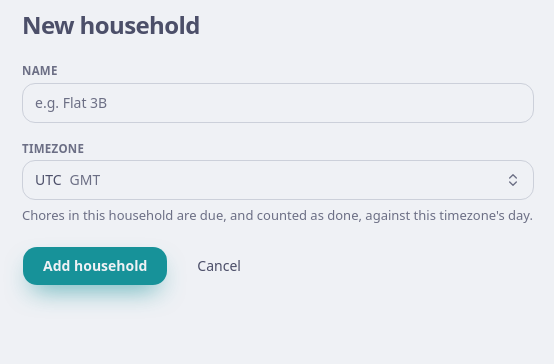
it: HouseholdCreate › does not re-read the session when the create fails
In the field labelled "Name": (278, 102) [22, 82, 534, 122], type "Beach House"
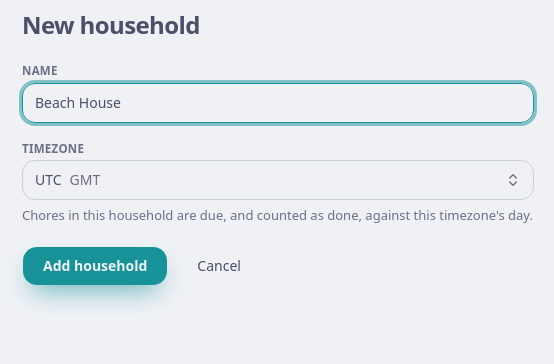
Click the button "Add household": (95, 266) [22, 246, 168, 286]
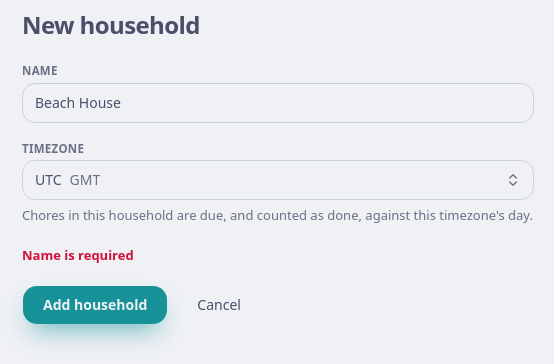
Expected: the text "Name is required" is shown, [22, 246, 134, 264]
